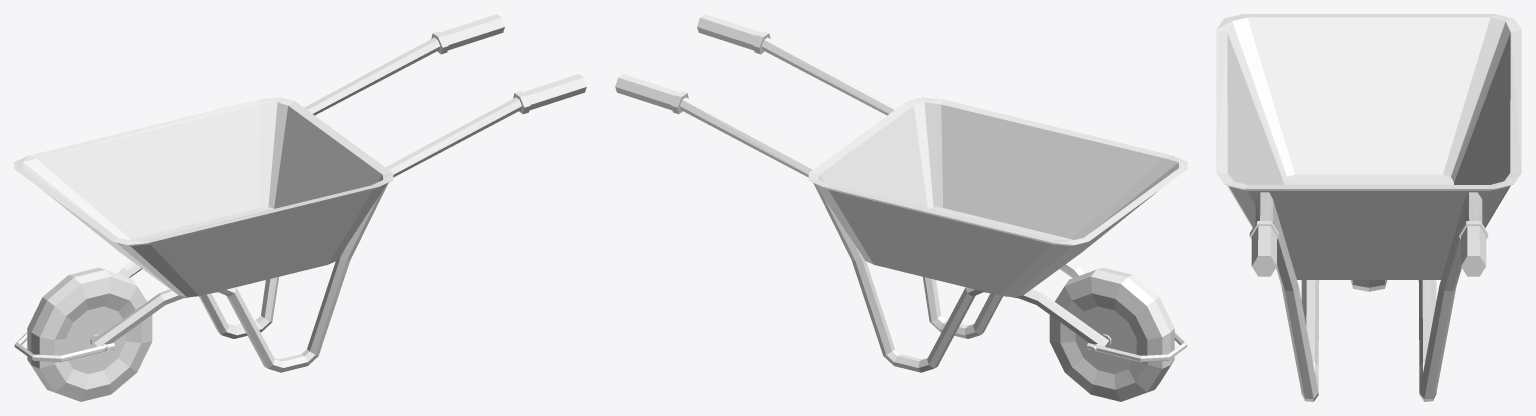
The model's file is Tool_Wheelbarrow_02.glb.
The picture shows the model from 3 angles, left to right: view 1: azimuth 30°, elevation 25°; view 2: azimuth 150°, elevation 25°; view 3: azimuth 270°, elevation 25°; orthographic projection. The views are drawn at different scales.
Visible parts, largest first — view 1: Tool_Wheelbarrow_02, Tool_Wheelbarrow_Wheel_02; view 2: Tool_Wheelbarrow_02, Tool_Wheelbarrow_Wheel_02; view 3: Tool_Wheelbarrow_02, Tool_Wheelbarrow_Wheel_02.
Boxes of the visible parts, box(x1,y1,x2,y2) form: Tool_Wheelbarrow_02: box(14, 14, 586, 372); Tool_Wheelbarrow_Wheel_02: box(27, 267, 152, 401); Tool_Wheelbarrow_02: box(615, 14, 1187, 372); Tool_Wheelbarrow_Wheel_02: box(1049, 267, 1174, 401); Tool_Wheelbarrow_02: box(1216, 14, 1521, 401); Tool_Wheelbarrow_Wheel_02: box(1350, 280, 1387, 291).
Size of the model in its own units: 1.73 by 0.7654 by 0.6903.
Materials: 1 (1 with a texture image).
